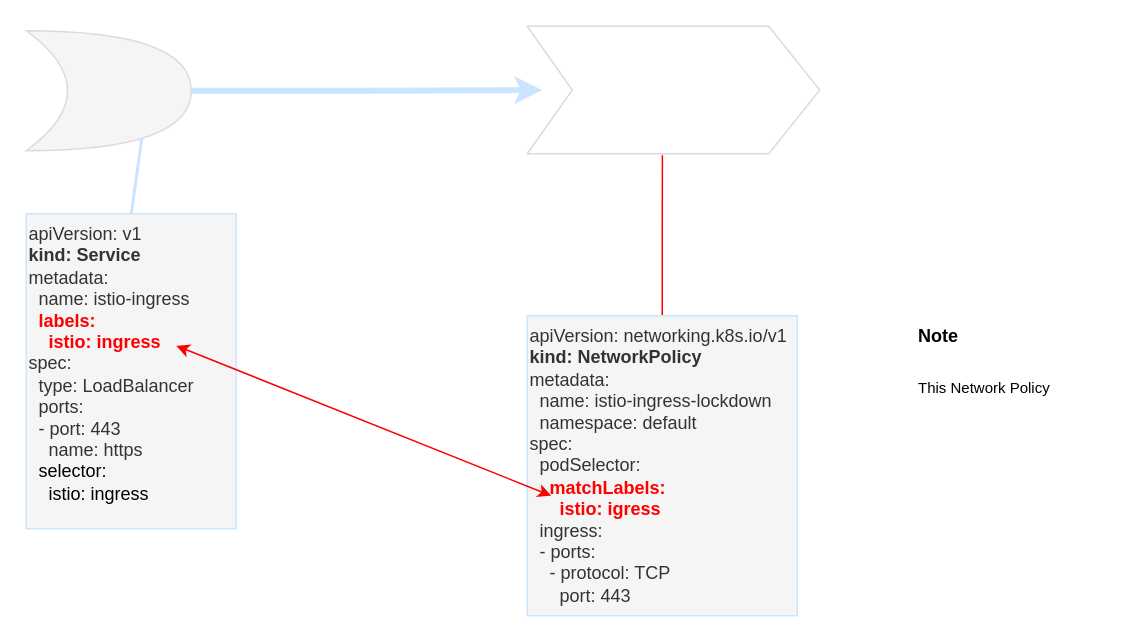
Image size: 1148x642. Some labels were removed from this diagram. Here are the shapes that lost their labels. From the top down, the centre of each, then its label:
point 108,90: Ingress
point 673,89: Network Policy
